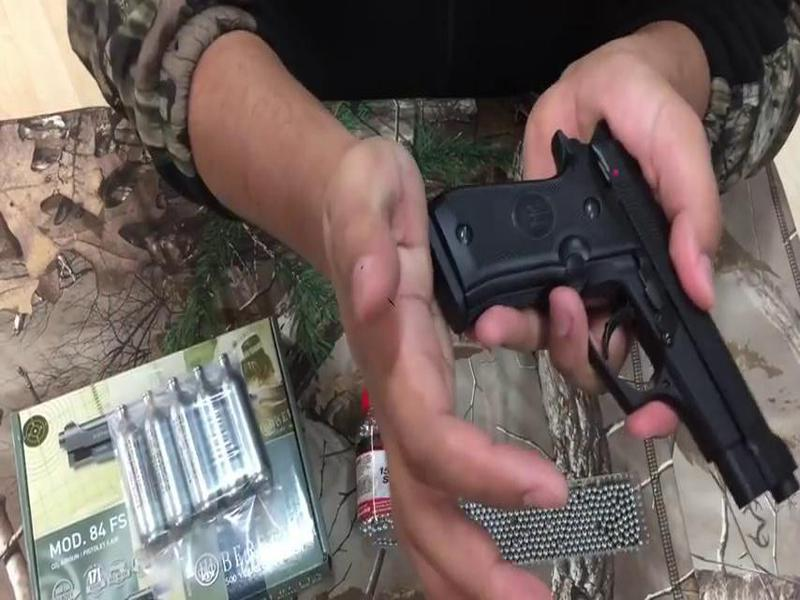Pistola: (428, 116, 787, 498)
